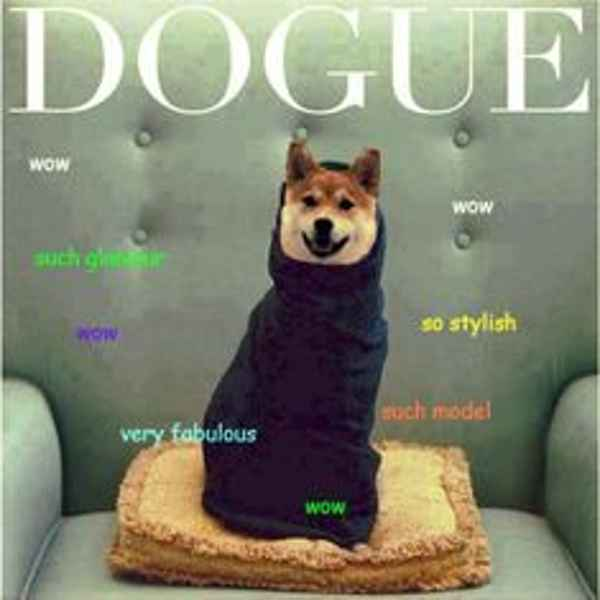doge: (264, 131, 388, 271)
